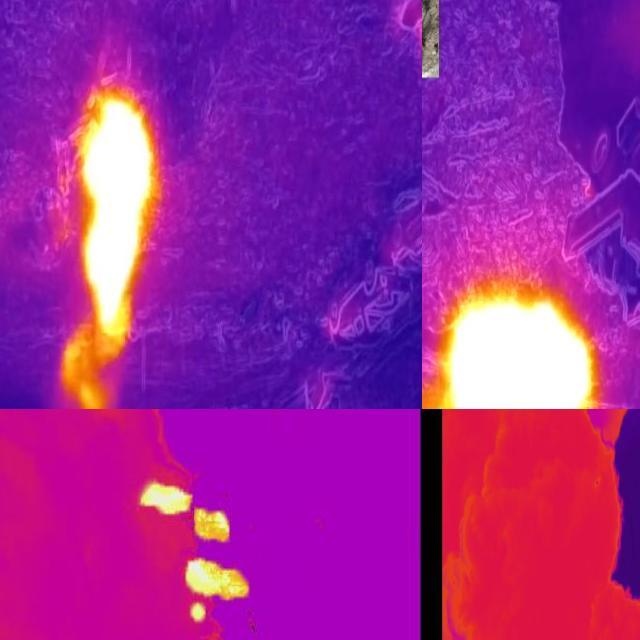fire: (433, 283, 598, 410), (80, 89, 155, 351), (136, 483, 252, 626)
